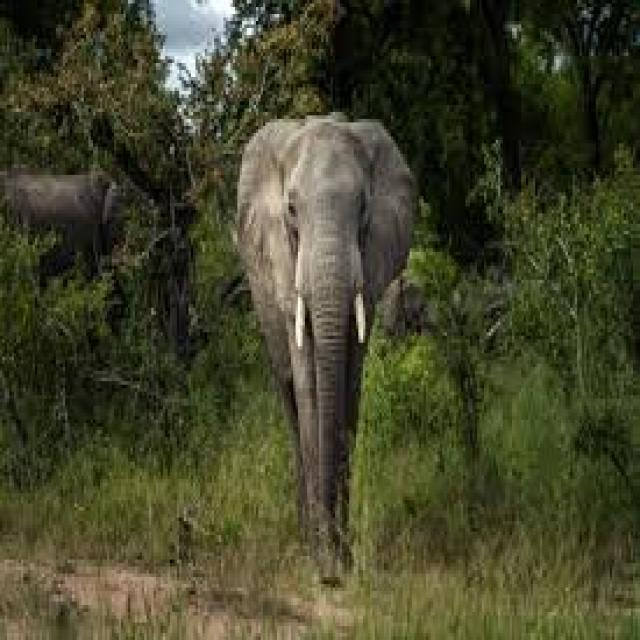Elephant: (233, 108, 417, 584)
